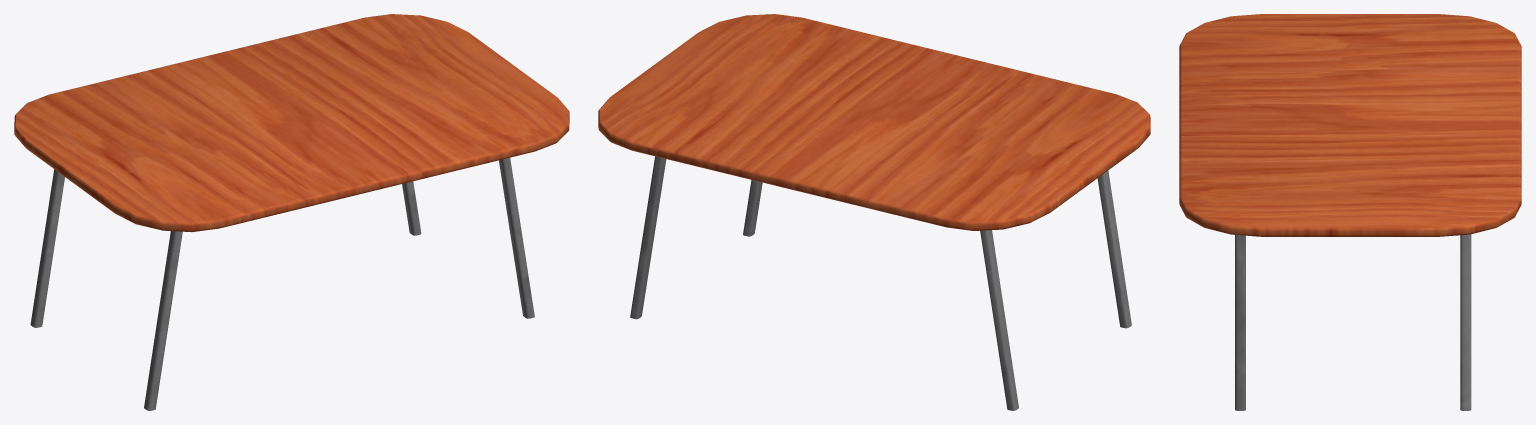
Rendered from table_Table.gltf.
The picture shows the model from 3 angles, left to right: view 1: azimuth 30°, elevation 25°; view 2: azimuth 150°, elevation 25°; view 3: azimuth 270°, elevation 25°; orthographic projection.
Visible parts, largest first — view 1: table_Table; view 2: table_Table; view 3: table_Table.
Part boxes in pixels (<box>): table_Table: <box>14,14,569,410</box>; table_Table: <box>598,14,1150,410</box>; table_Table: <box>1179,14,1521,410</box>.
Size of the model in its own units: 2.41 by 1.05 by 1.62.
Materials: 1 (1 with a texture image).
